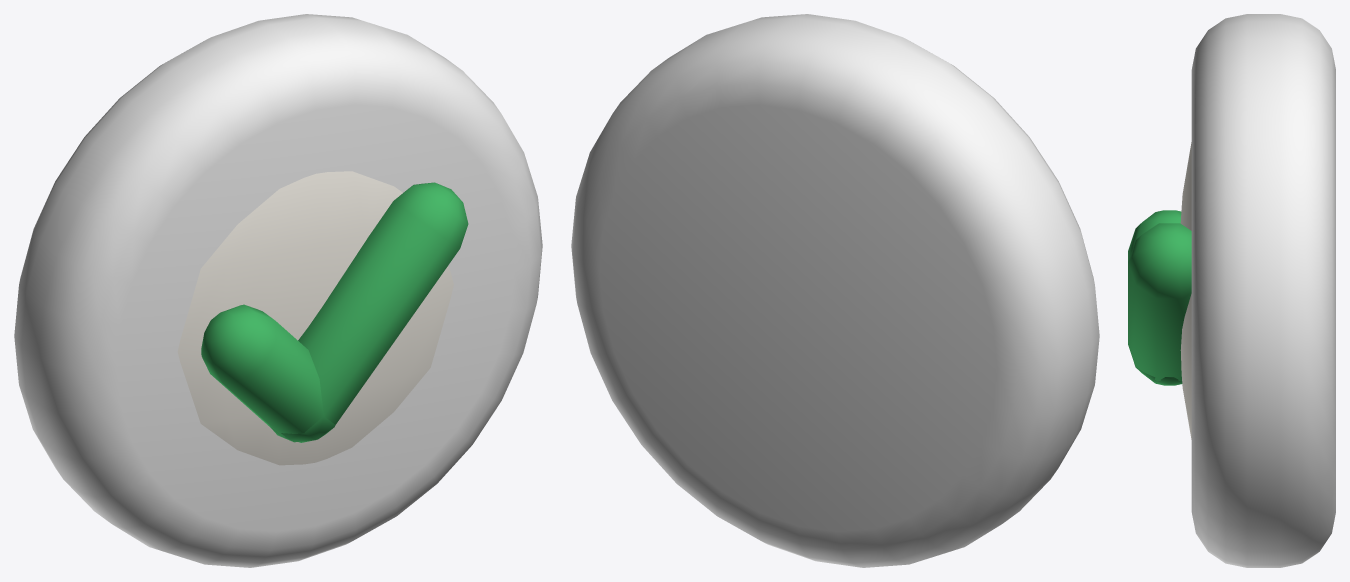
File: git_check_pass.glb
The picture shows the model from 3 angles, left to right: view 1: azimuth 30°, elevation 25°; view 2: azimuth 150°, elevation 25°; view 3: azimuth 270°, elevation 25°; orthographic projection. The views are drawn at different scales.
Visible parts, largest first — view 1: git_check_pass; view 2: git_check_pass; view 3: git_check_pass.
Boxes of the visible parts, x1,y1,x2,y2 form: git_check_pass: [14, 14, 542, 567]; git_check_pass: [571, 14, 1099, 567]; git_check_pass: [1128, 14, 1335, 567].
Bounding box in the file's own units: 1 × 1 × 0.375.
